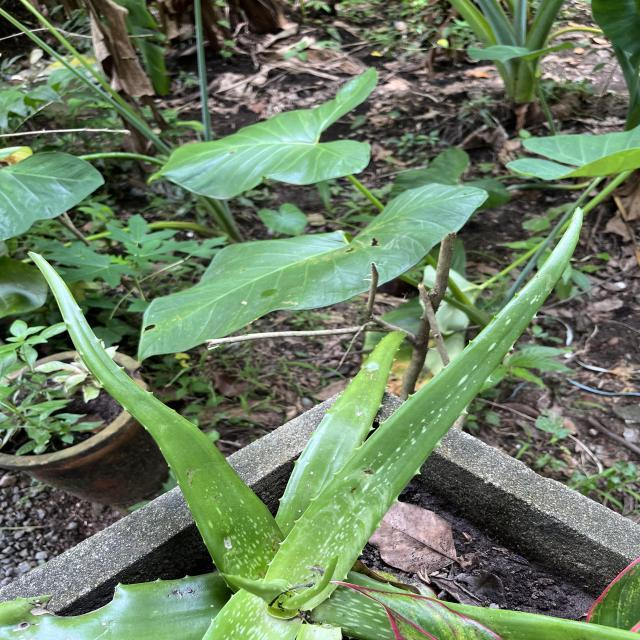Aloe vera: (274, 204, 594, 610), (22, 250, 286, 570)
